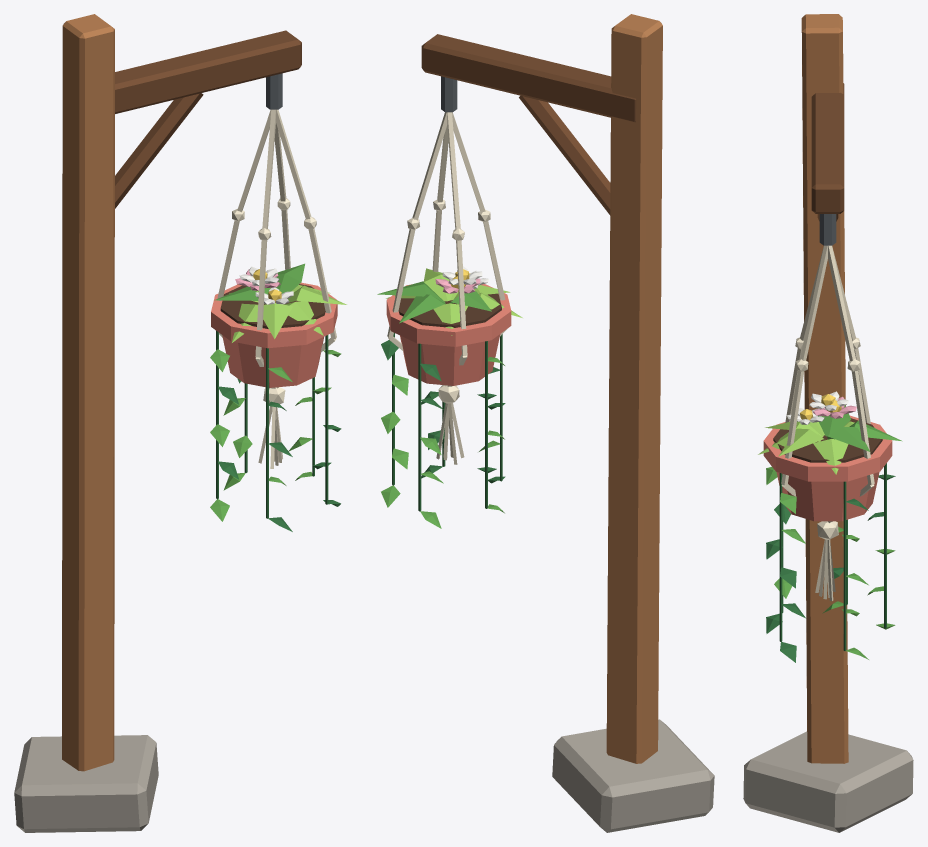
The model's file is hanging_planter.glb.
3 views of the same model, side by side, from view 1: azimuth 30°, elevation 25°; view 2: azimuth 150°, elevation 25°; view 3: azimuth 270°, elevation 25° (orthographic).
Parts seen in each view (by area): view 1: Hanging Planter; view 2: Hanging Planter; view 3: Hanging Planter.
Part boxes in pixels (x1,y1,x2,y2): Hanging Planter: [14, 14, 346, 832]; Hanging Planter: [377, 14, 714, 832]; Hanging Planter: [743, 14, 913, 832].
Size of the model in its own units: 0.9038 by 2.11 by 0.4139.
1 material, 1 textured.
